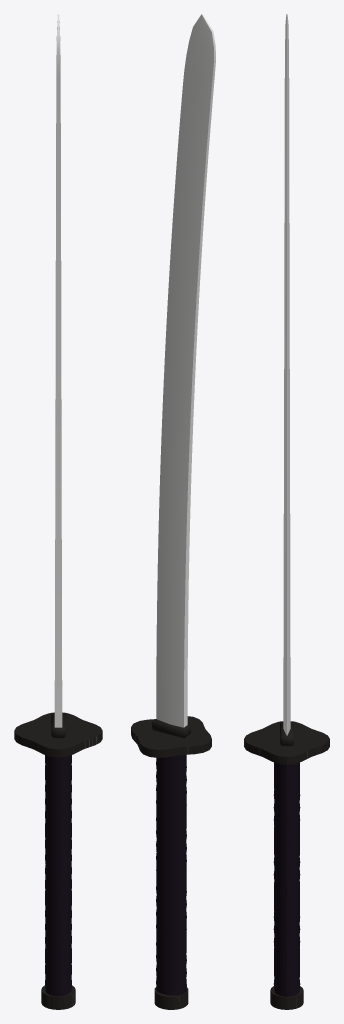
Rendered from sword.glb.
3 renders of one model, left to right at view 1: azimuth 90°, elevation 25°; view 2: azimuth 150°, elevation 25°; view 3: azimuth 270°, elevation 25°, orthographic. The views are drawn at different scales.
Visible parts, largest first — view 1: Sword_Clean_wrap, Sword_Clean_blade, Sword_Clean_guard; view 2: Sword_Clean_blade, Sword_Clean_wrap, Sword_Clean_guard; view 3: Sword_Clean_wrap, Sword_Clean_blade, Sword_Clean_guard.
Boxes of the visible parts, x1=… form: Sword_Clean_wrap: x1=45, y1=755, x2=71, y2=996; Sword_Clean_blade: x1=54, y1=14, x2=62, y2=727; Sword_Clean_guard: x1=14, y1=712, x2=102, y2=1009; Sword_Clean_blade: x1=156, y1=14, x2=215, y2=727; Sword_Clean_wrap: x1=156, y1=754, x2=186, y2=995; Sword_Clean_guard: x1=131, y1=716, x2=211, y2=1009; Sword_Clean_wrap: x1=273, y1=762, x2=300, y2=996; Sword_Clean_blade: x1=283, y1=14, x2=290, y2=735; Sword_Clean_guard: x1=244, y1=721, x2=329, y2=1009.
Bounding box in the file's own units: 0.0857 × 1 × 0.08.
Materials: 3 (2 with a texture image).
